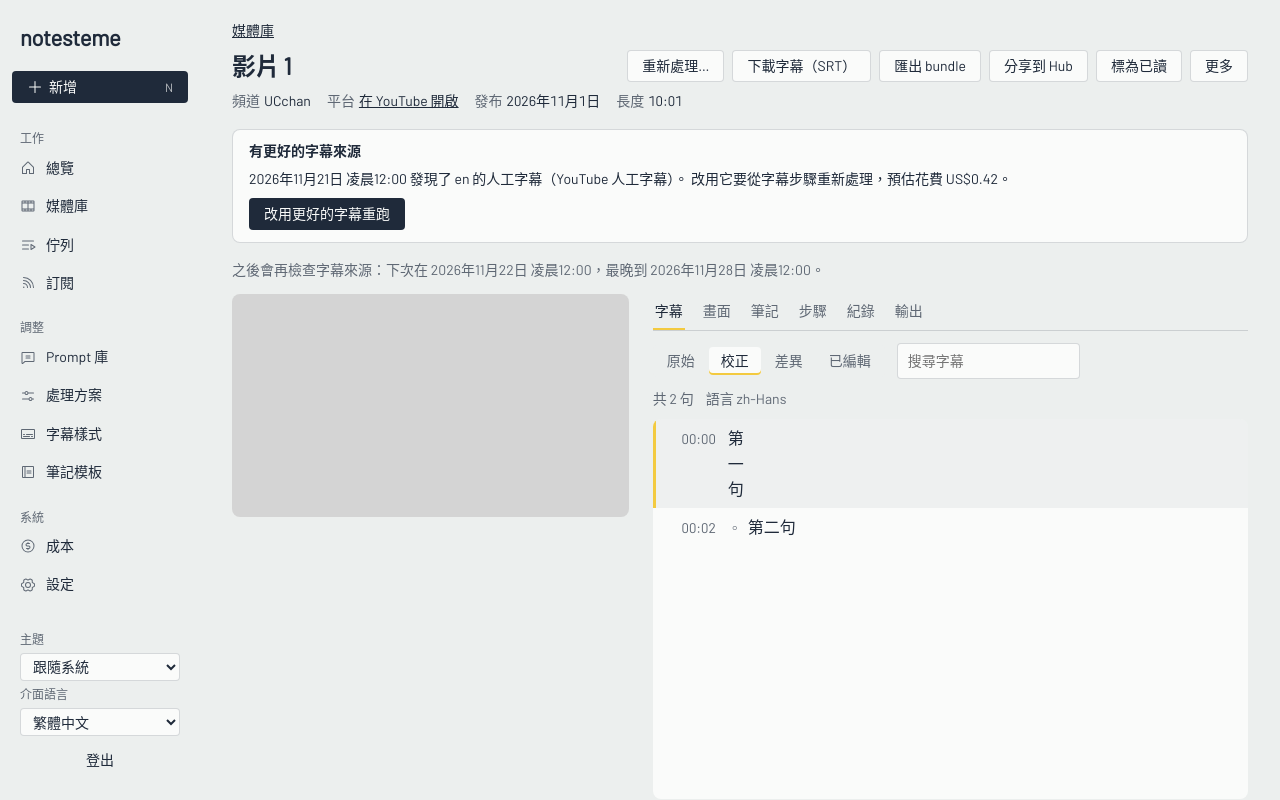
Test: 影音詳情：更好的字幕來源（SRC-10） › 有預估時顯示金額
Expected: the text "預估花費 US$0.42" is shown, [691,170,1012,187]
Note: SRC 的 @ui 場景：「改用更好的字幕重跑」在執行前顯示預估的 LLM 花費
Step 1. Click the button "改用更好的字幕重跑" → click(327, 214), box [249,198,405,230]
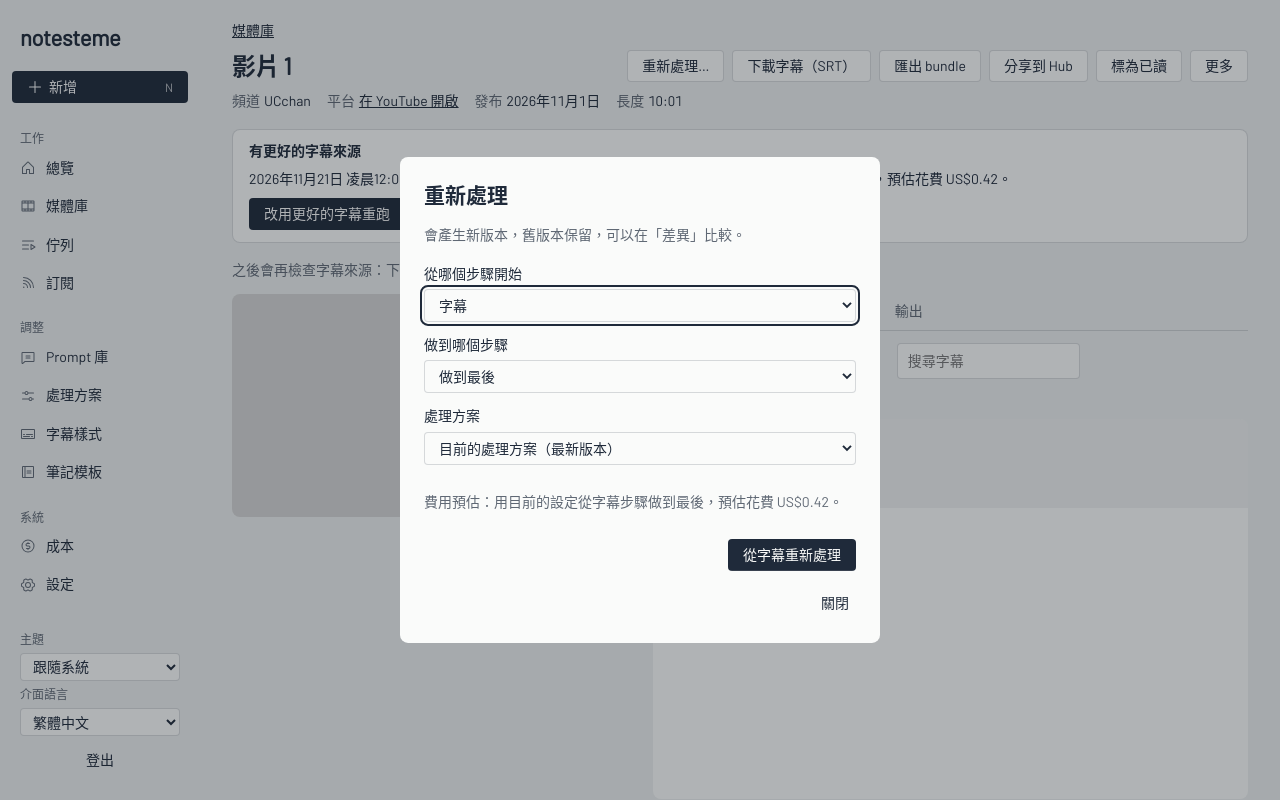
Expected: the text "費用預估：用目前的設定從字幕步驟做到最後，預估花費 US$0.42。" is shown, [424,491,856,513]
Note: 換了起點，預估就不適用
Step 2. Select "校正" in the dropdown labelled "從哪個步驟開始" → (640, 306), box [424,289,856,322]
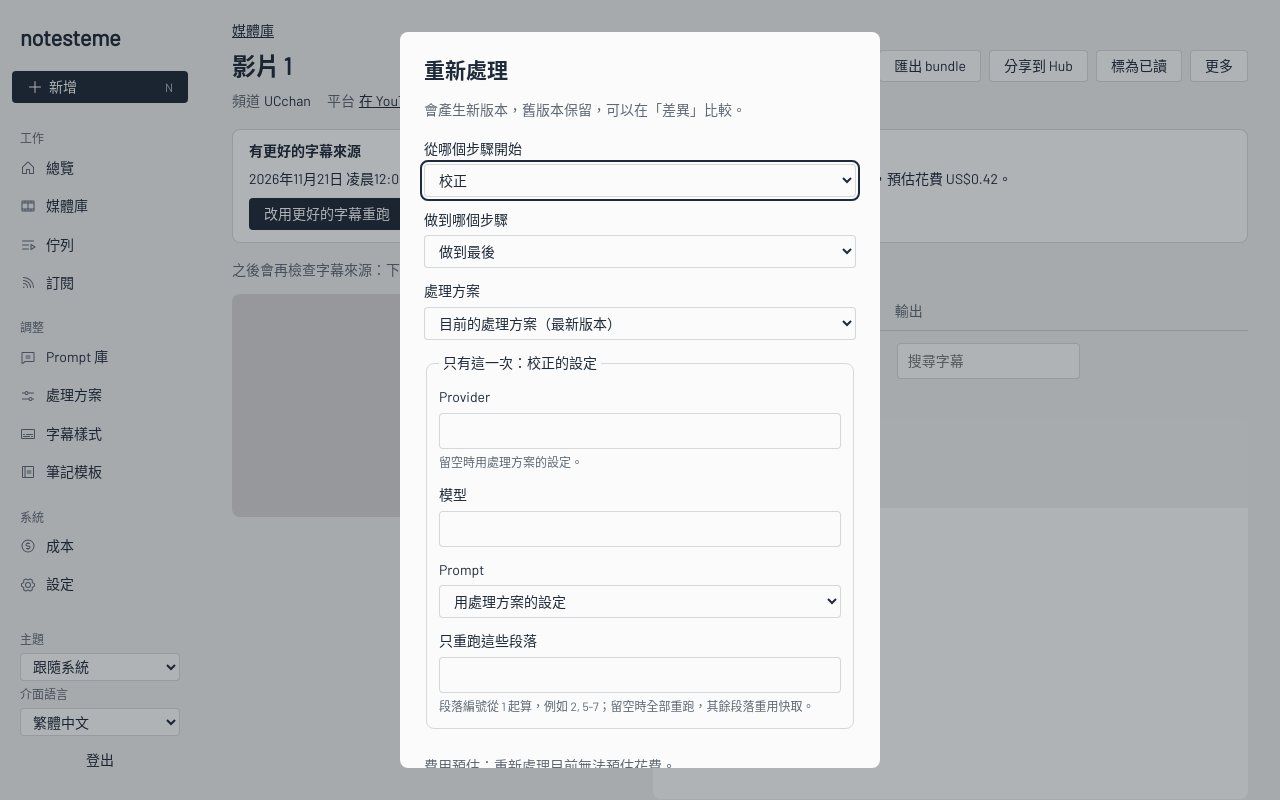
Expected: the text "費用預估：重新處理目前無法預估花費。" is shown, [424,757,676,768]
